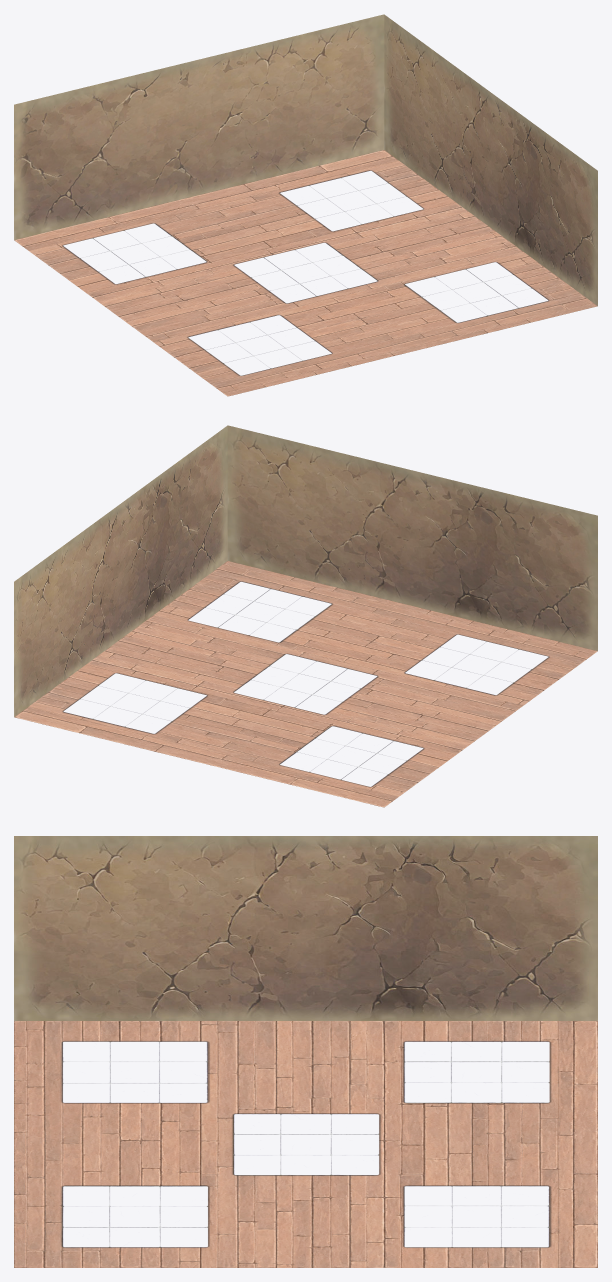
File: room_with_ceiling.glb
3 renders of one model, top to bottom at view 1: azimuth 30°, elevation 25°; view 2: azimuth 150°, elevation 25°; view 3: azimuth 270°, elevation 25°, orthographic. The views are drawn at different scales.
Parts seen in each view (by area): view 1: obj_floor, obj_wall_right_east, obj_wall_right_south; view 2: obj_floor, obj_wall_left_west, obj_wall_right_south; view 3: obj_wall_left_north, obj_floor.
Part boxes in pixels (x1,y1,x2,y2): obj_floor: (14,150,597,396); obj_wall_right_east: (14,14,384,239); obj_wall_right_south: (384,14,597,305); obj_floor: (14,561,597,807); obj_wall_left_west: (227,425,597,650); obj_wall_right_south: (14,425,227,716); obj_wall_left_north: (14,836,597,1020); obj_floor: (14,1021,597,1267).
Bounding box in the file's own units: 6.86 × 2.4 × 6.86.
Materials: 4 (4 with a texture image).
